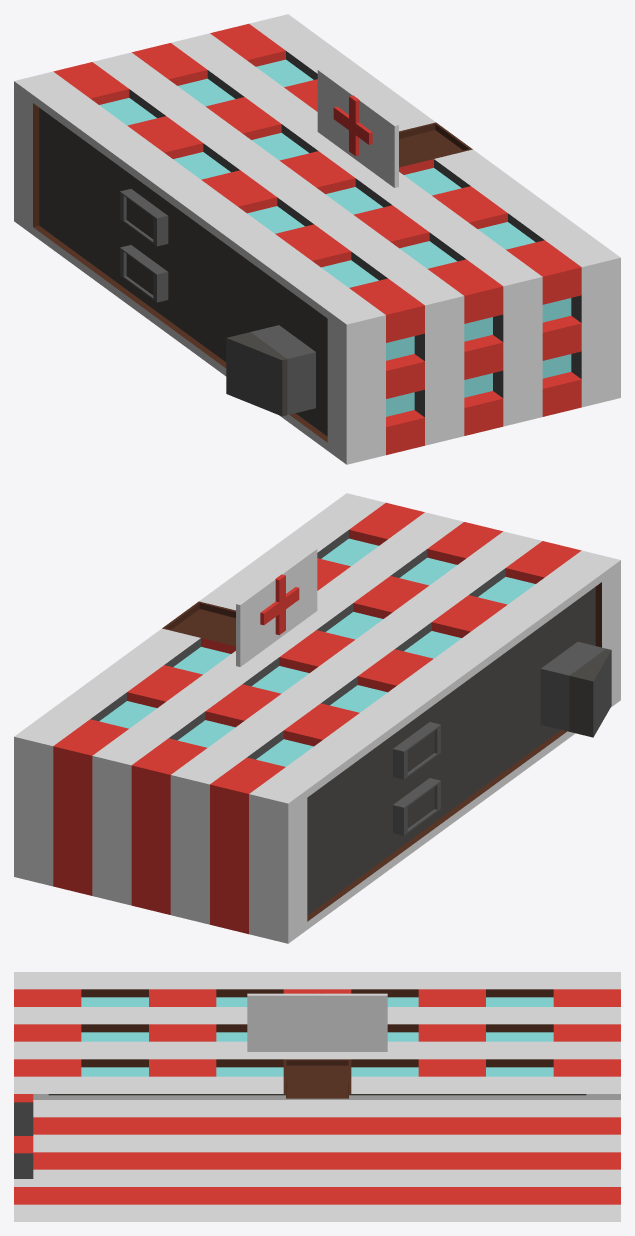
The model's file is GreyboxBuilding3.fbx.
3 renders of one model, top to bottom at view 1: azimuth 30°, elevation 25°; view 2: azimuth 150°, elevation 25°; view 3: azimuth 270°, elevation 25°, orthographic. The views are drawn at different scales.
Visible parts, largest first — view 1: Hospital; view 2: Hospital; view 3: Hospital.
Part boxes in pixels (x1,y1,x2,y2): Hospital: (14,14,620,464); Hospital: (14,493,620,943); Hospital: (14,972,620,1221).
Bounding box in the file's own units: 427 × 257 × 767.
